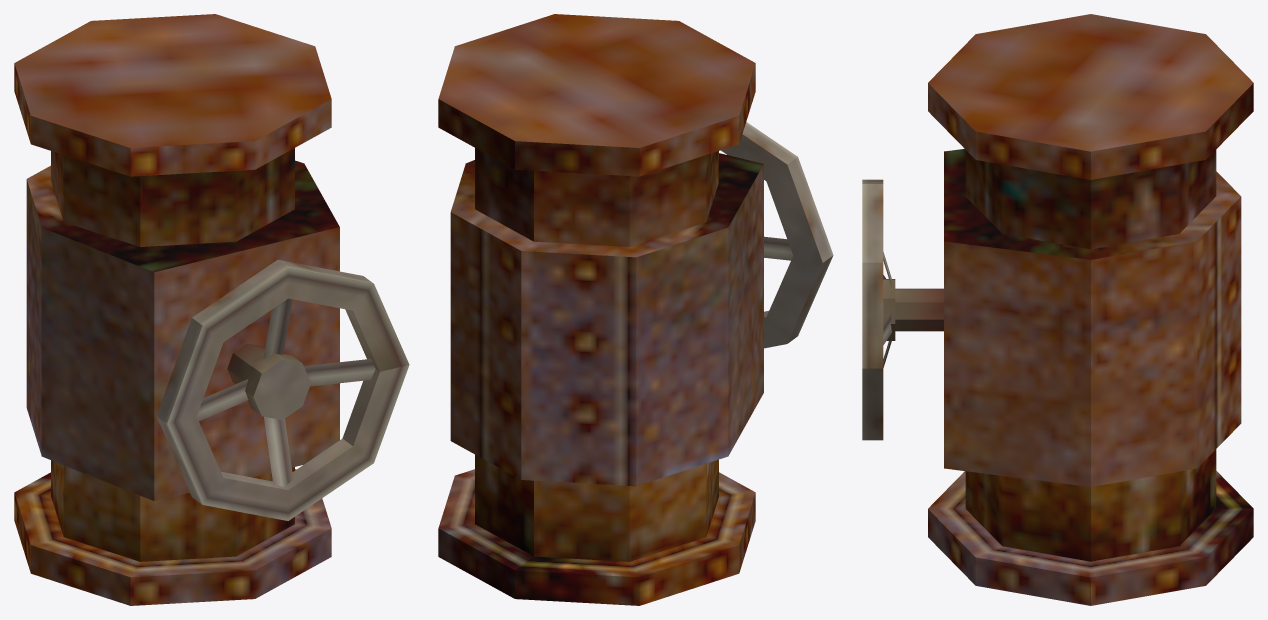
File: MO_PIPE_BASE_03.fbx
The picture shows the model from 3 angles, left to right: view 1: azimuth 30°, elevation 25°; view 2: azimuth 150°, elevation 25°; view 3: azimuth 270°, elevation 25°; orthographic projection.
Visible parts, largest first — view 1: MO_PIPE_BASE_03; view 2: MO_PIPE_BASE_03; view 3: MO_PIPE_BASE_03.
Boxes of the visible parts, x1,y1,x2,y2 form: MO_PIPE_BASE_03: (14, 14, 409, 605); MO_PIPE_BASE_03: (438, 14, 833, 605); MO_PIPE_BASE_03: (862, 14, 1253, 605).
Bounding box in the file's own units: 1.3 × 2 × 1.56.
